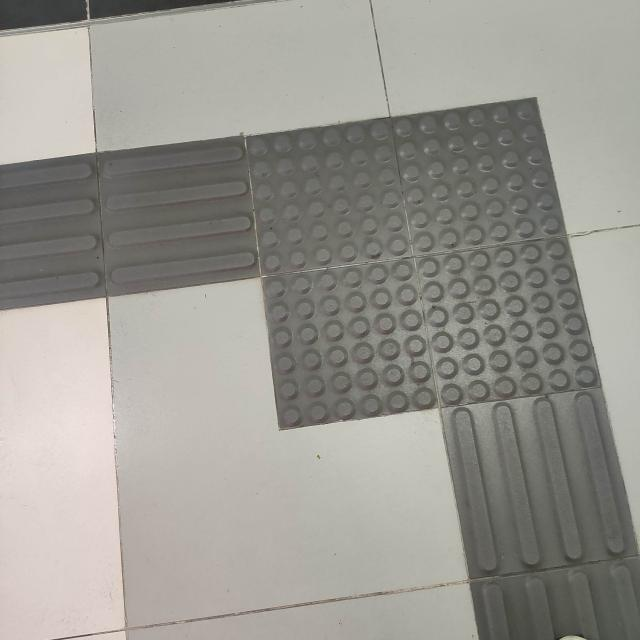kiri: (2, 81, 640, 483)
